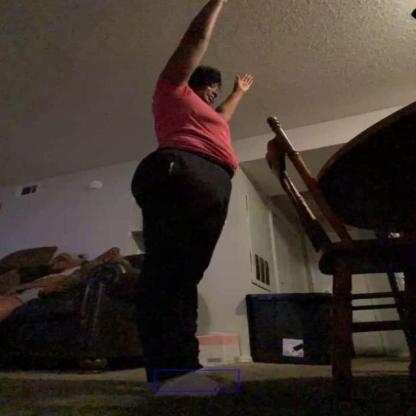person: (132, 1, 263, 400)
